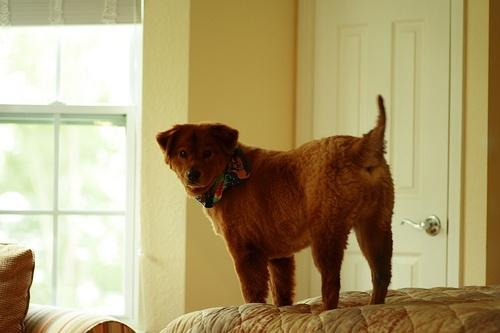dog: (157, 96, 393, 309)
